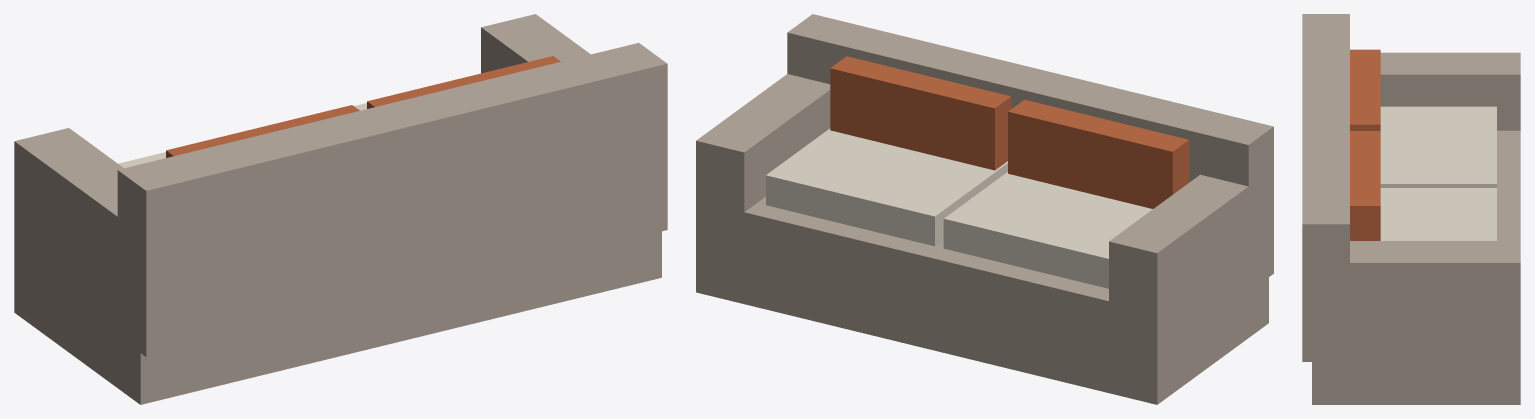
3 views of the same model, side by side, from view 1: azimuth 30°, elevation 25°; view 2: azimuth 150°, elevation 25°; view 3: azimuth 270°, elevation 25° (orthographic). The views are drawn at different scales.
Visible parts, largest first — view 1: sofa_lounge; view 2: sofa_lounge; view 3: sofa_lounge.
Part boxes in pixels (x1,y1,x2,y2): sofa_lounge: (14, 14, 667, 404); sofa_lounge: (696, 14, 1273, 404); sofa_lounge: (1302, 14, 1520, 404).
Size of the model in its own units: 2.1 by 0.92 by 0.84.
